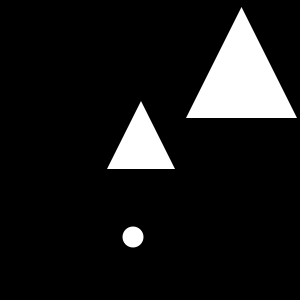rectangle: (122, 226, 144, 248)
triangle: (186, 7, 297, 118), (107, 101, 175, 169), (218, 47, 248, 77)
